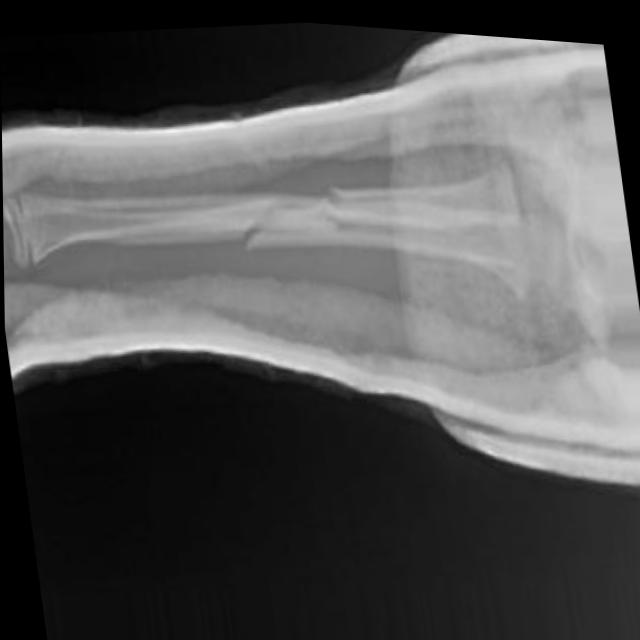fracture: (230, 159, 361, 277)
